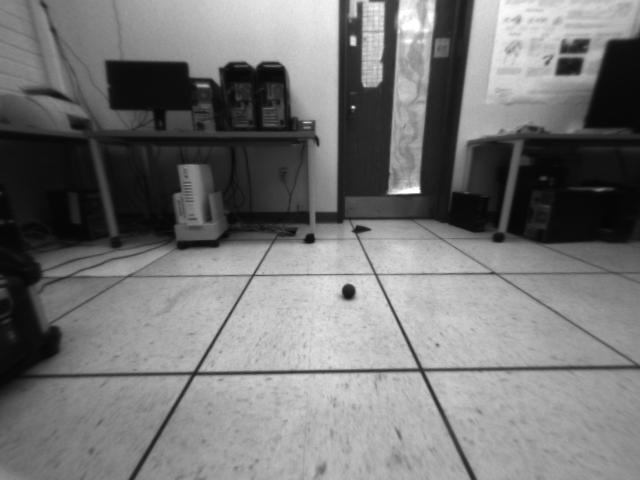dogtoy: (334, 276, 361, 304)
